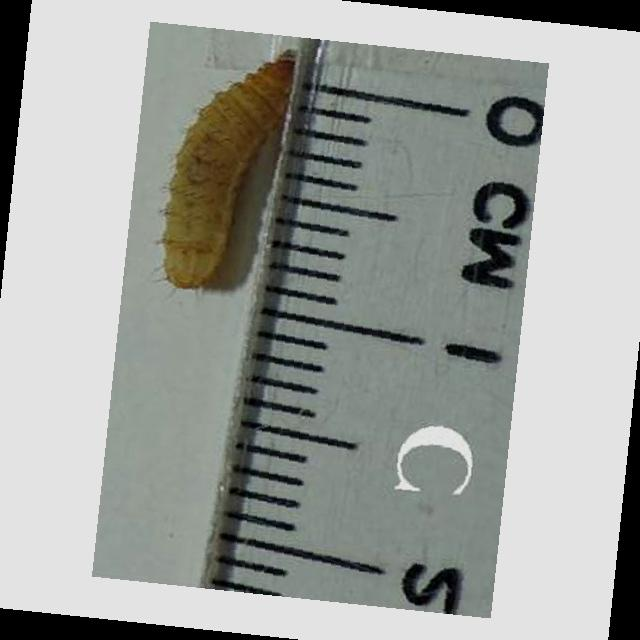Maggot: (160, 48, 297, 289)
